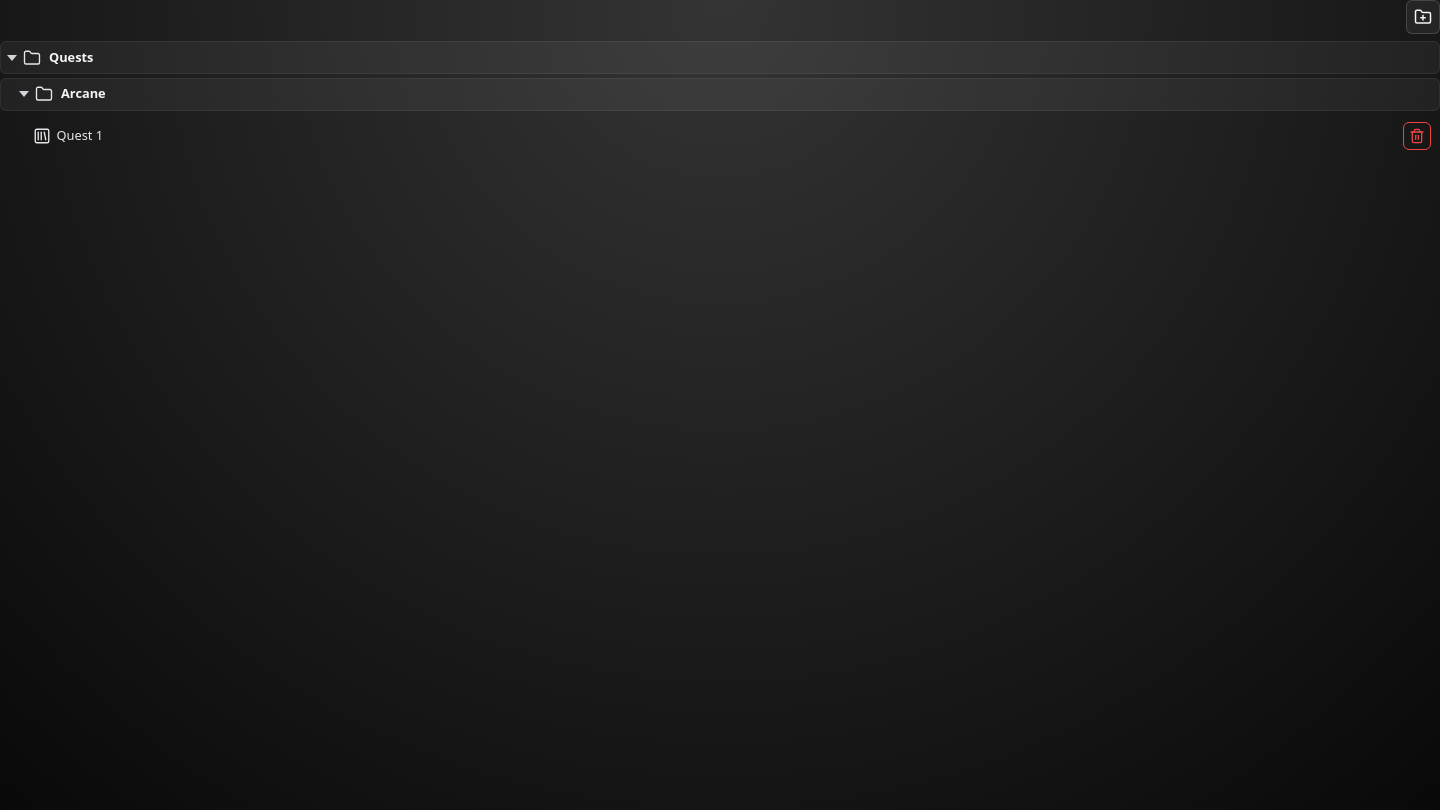
Test case: CollectionsInspectorPanel › shows grouped modal tree expanded to reveal memberships and remains collapsible
This screenshot has width=1440, height=810.
Click the button named "Add to collection": (1423,17) left=1406, top=0, right=1439, bottom=34
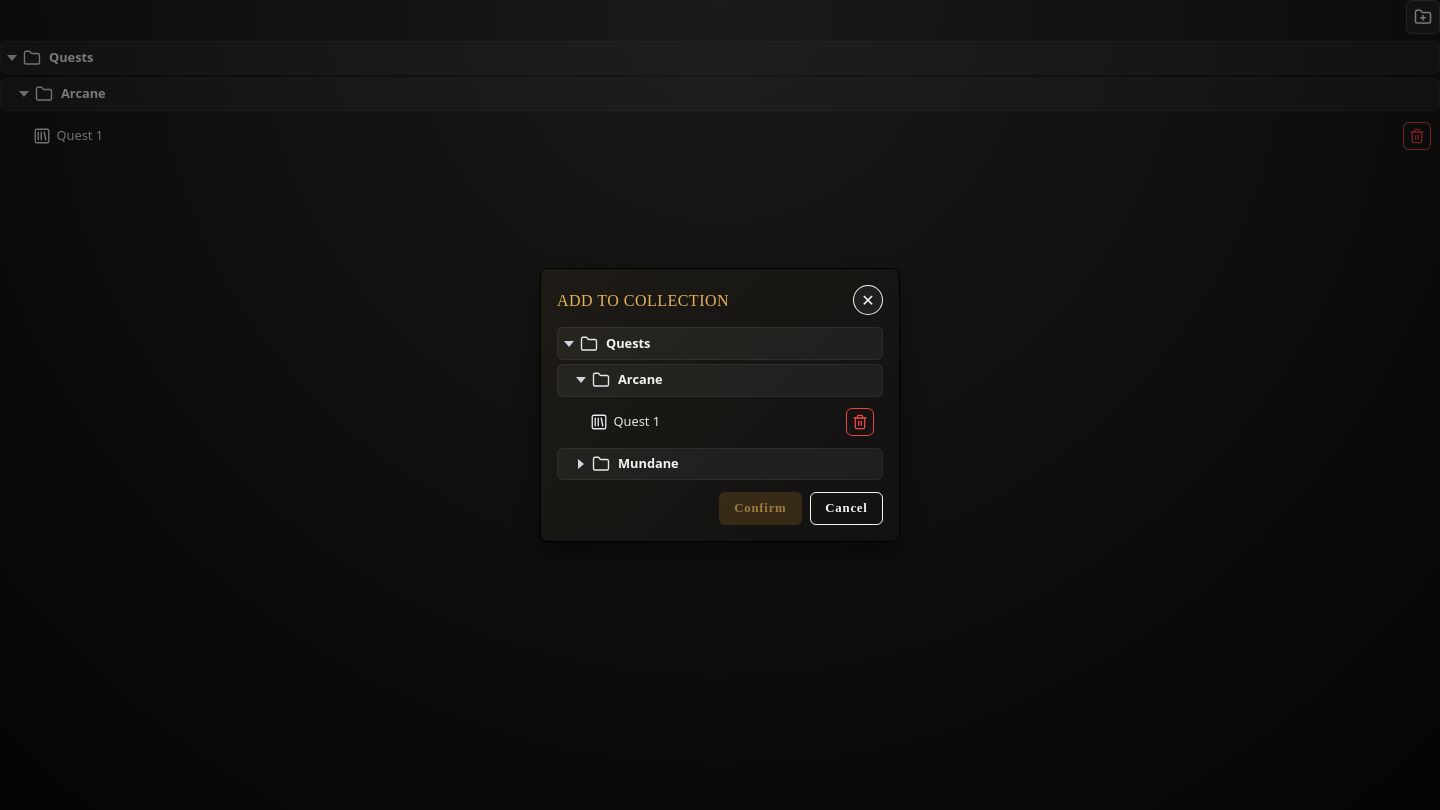
Result: the button "Quests" is shown
Result: the button "Arcane" is shown at left=557, top=364, right=883, bottom=397
Result: the text "Quest 1" is shown at left=614, top=413, right=660, bottom=431
Click the button "Quests": (628,343) left=557, top=327, right=883, bottom=360
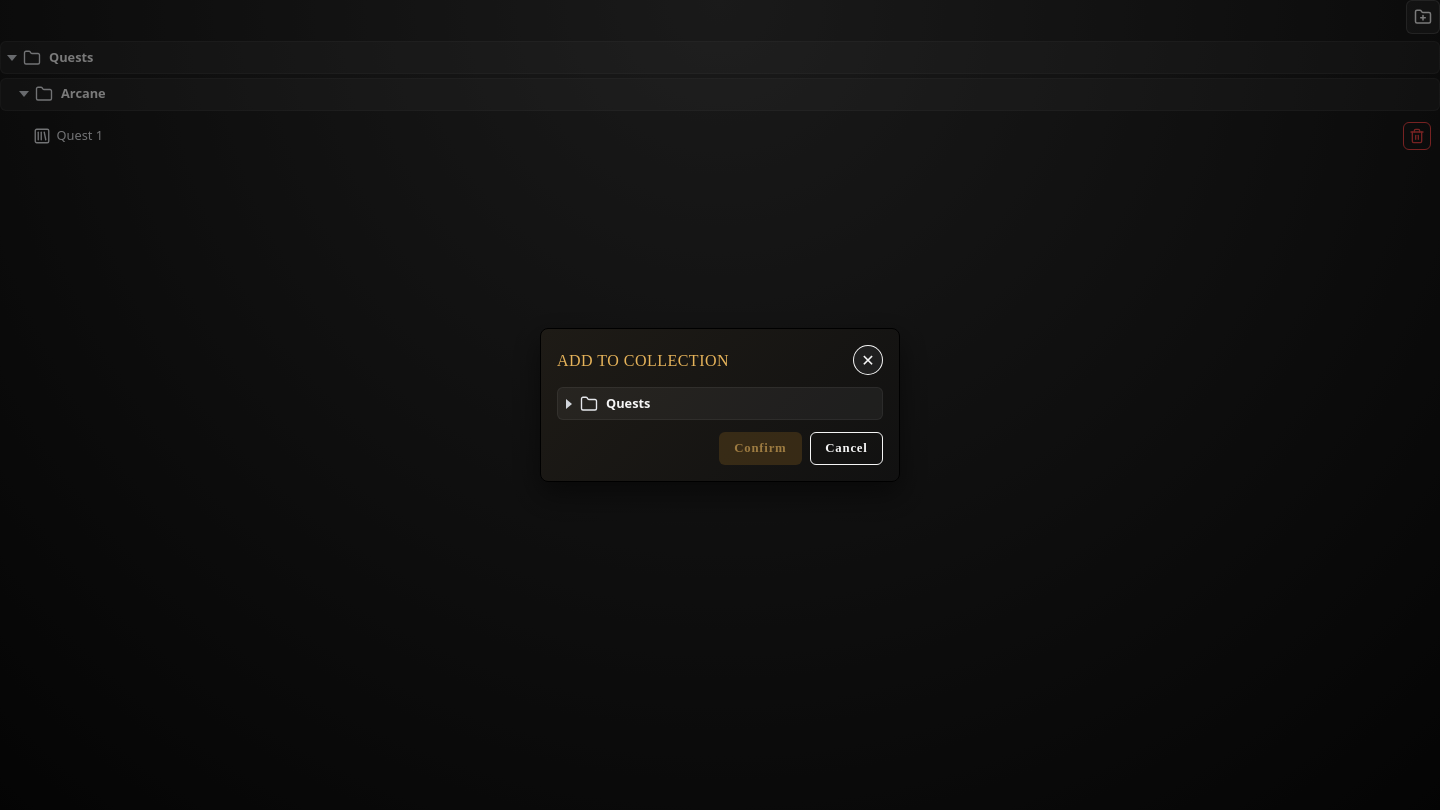
Click the button "Quests": (628,403) left=557, top=387, right=883, bottom=420
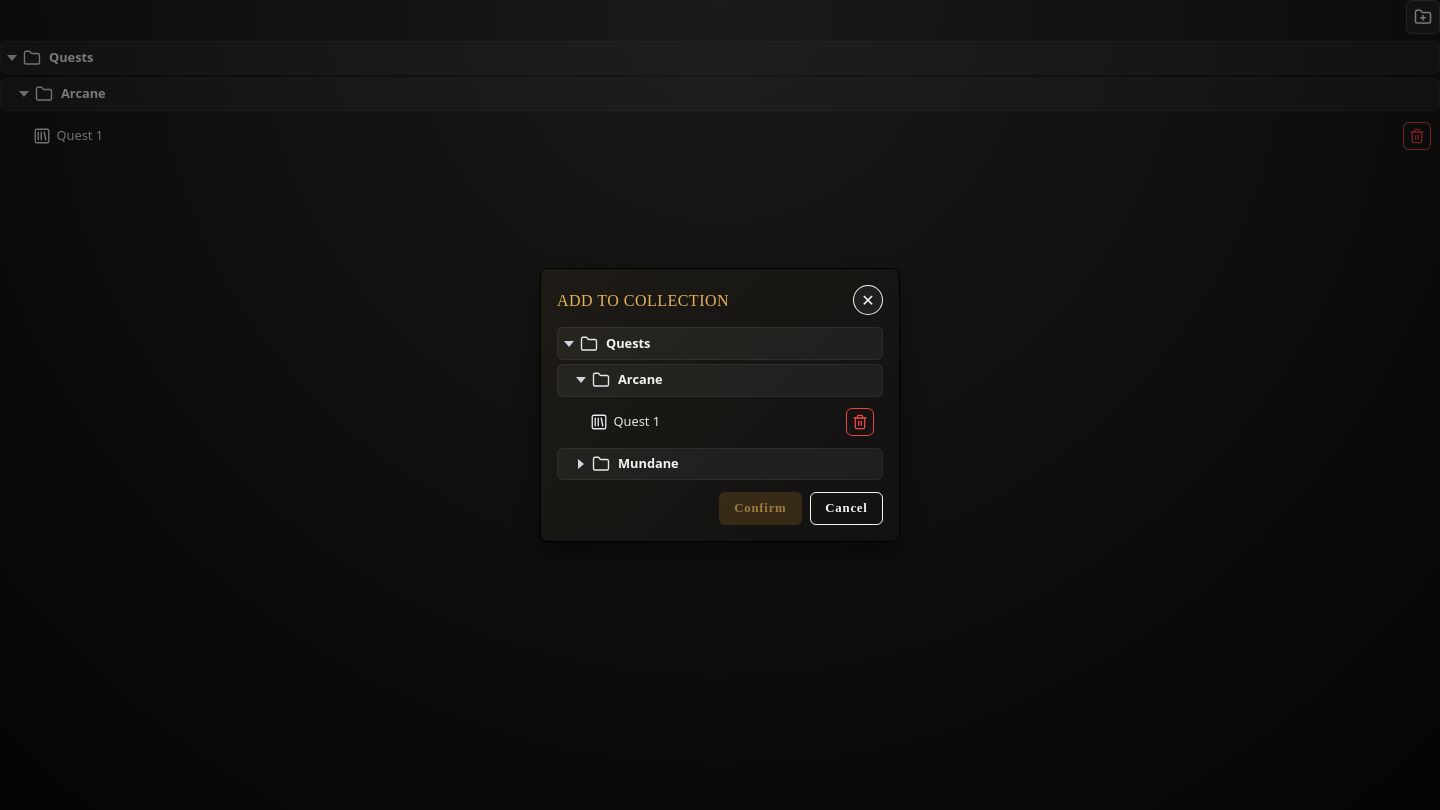
Result: the text "Quest 1" is shown at left=614, top=413, right=660, bottom=431
